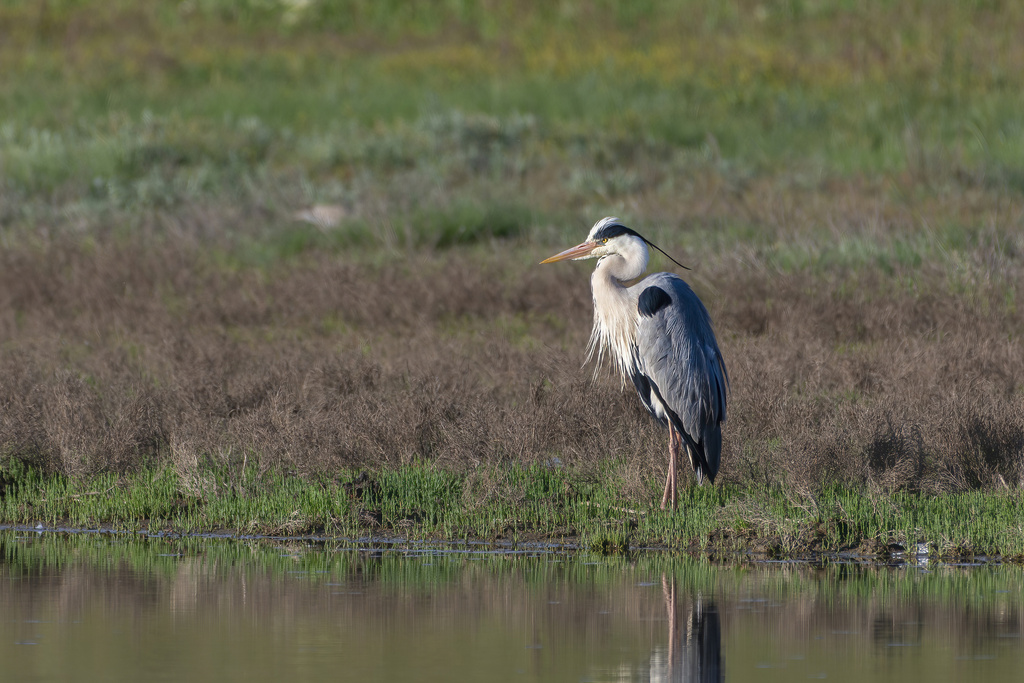heron: (536, 216, 730, 520)
